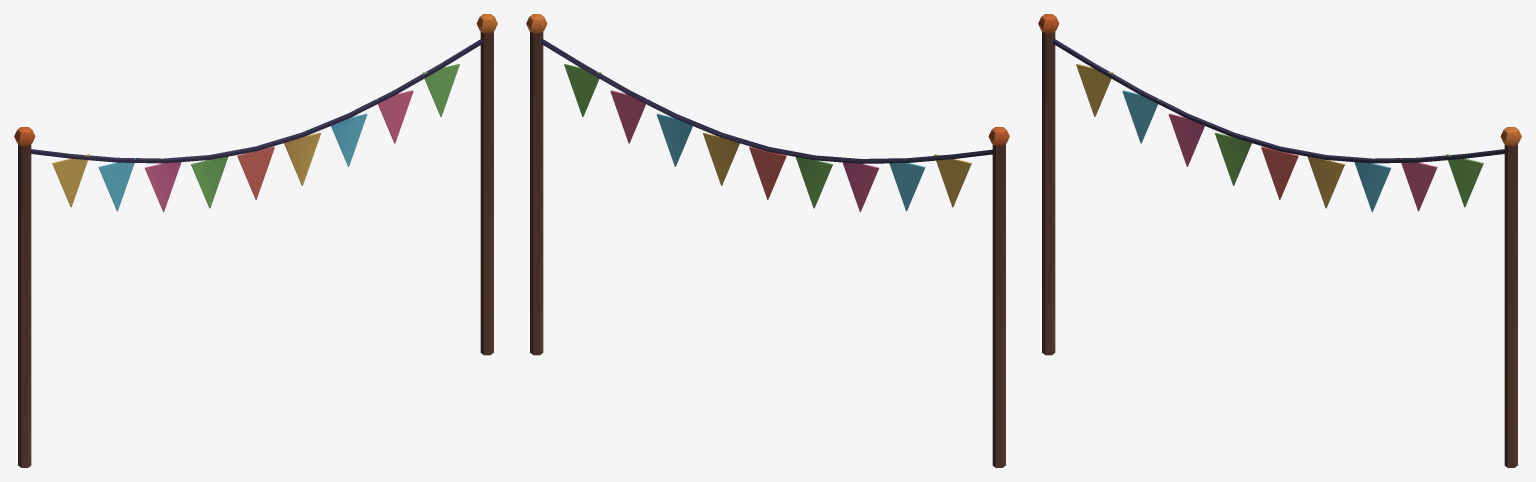
The model's file is common_town_bunting.glb.
3 views of the same model, side by side, from view 1: azimuth 30°, elevation 25°; view 2: azimuth 150°, elevation 25°; view 3: azimuth 330°, elevation 25° (orthographic).
Parts seen in each view (by area): view 1: common_town_bunting; view 2: common_town_bunting; view 3: common_town_bunting.
Part boxes in pixels (x1=…): common_town_bunting: x1=14, y1=14, x2=497, y2=467; common_town_bunting: x1=526, y1=14, x2=1009, y2=467; common_town_bunting: x1=1038, y1=14, x2=1521, y2=467.
Size of the model in its own units: 4.14 by 2.8 by 0.16.
